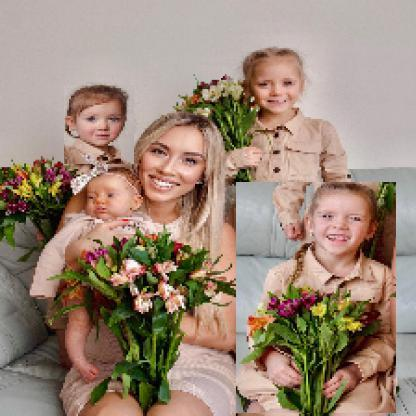child: (237, 183, 398, 415), (225, 48, 363, 241), (31, 166, 143, 385), (65, 87, 136, 167)
